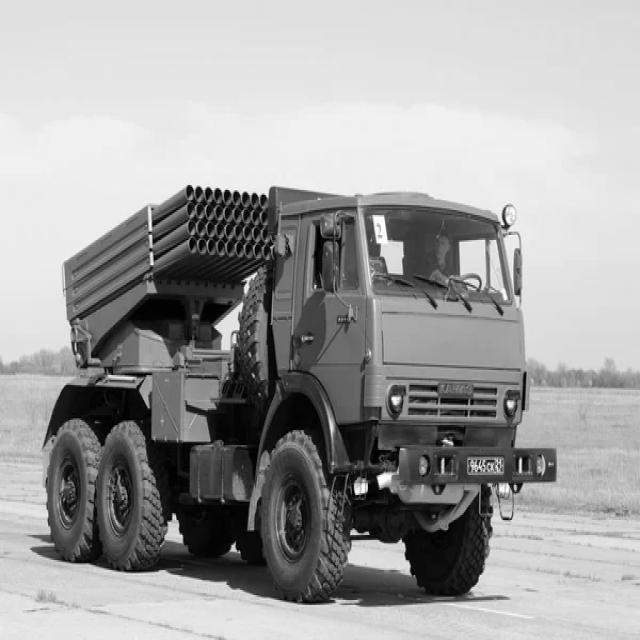Truck: (42, 185, 556, 603)
